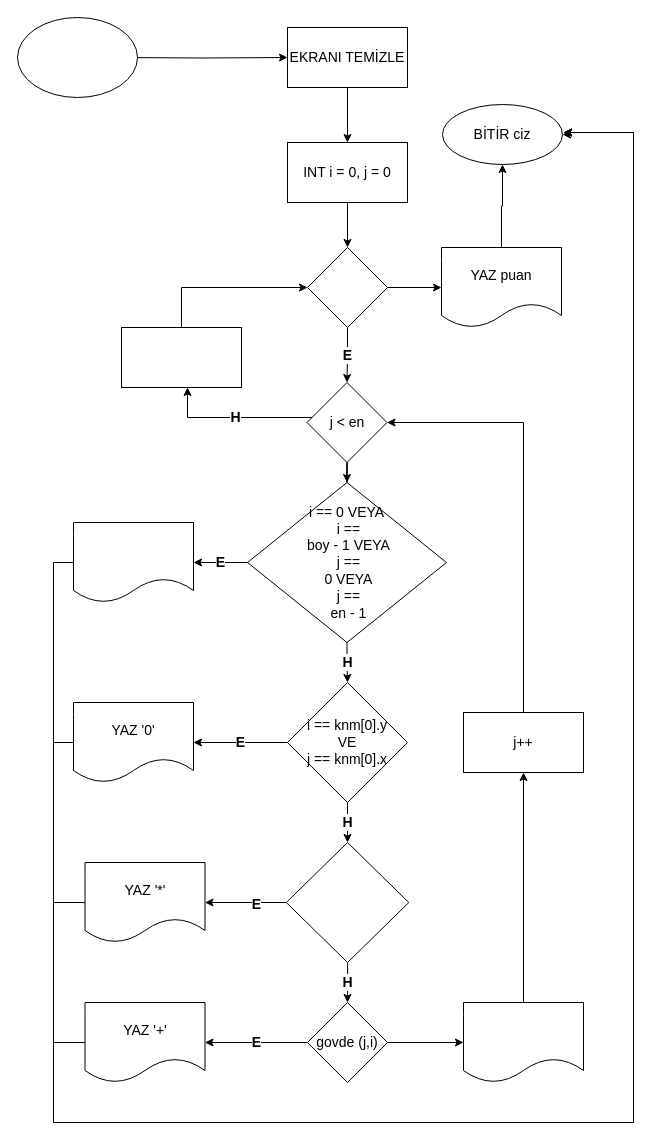
The diagram is 659 pixels wide and 1148 high, and some of its shapes have lost their labels. Here are the shapes that lost their labels. From the top down, the centre of each, then its label:
At point (77, 57): "BAŞLA ciz".
At point (347, 287): "i < boy".
At point (181, 357): "YENİ SATIR i++".
At point (133, 562): "YAZ '#'".
At point (347, 902): "i == yem.y VE j == yem.x".
At point (523, 1042): "YAZ ' '".
